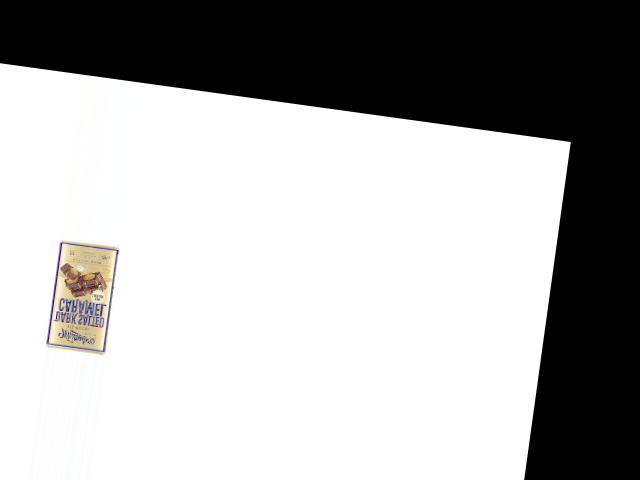chocolate: (43, 236, 124, 354)
